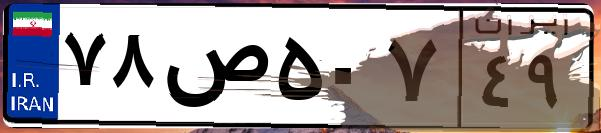0: (330, 28, 385, 110)
4: (475, 38, 525, 113)
5: (270, 28, 330, 110)
7: (385, 28, 445, 110), (57, 26, 110, 100)
8: (110, 28, 158, 98)
9: (525, 38, 570, 115)
ص: (158, 20, 270, 120)
